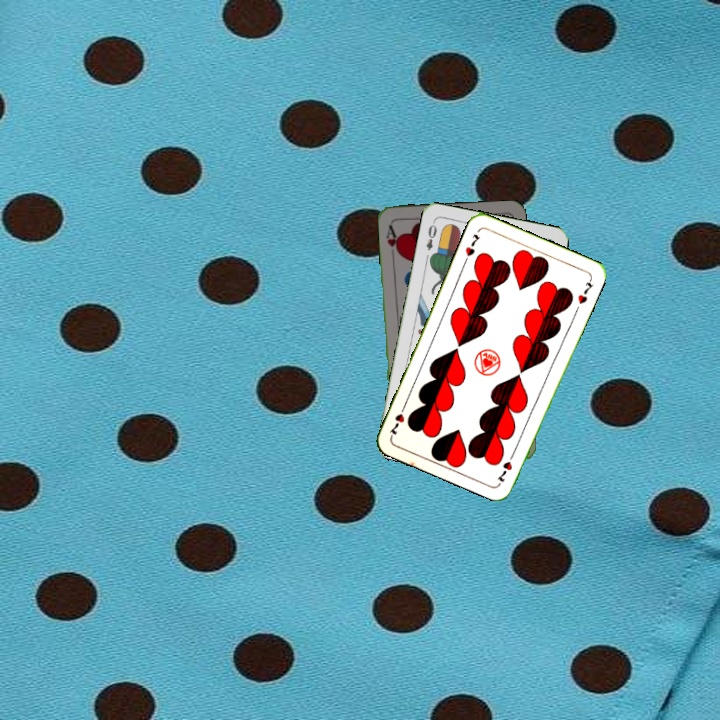EO: (422, 218, 439, 253)
H7: (494, 447, 518, 484), (460, 230, 482, 266)
HA: (382, 221, 402, 261)
